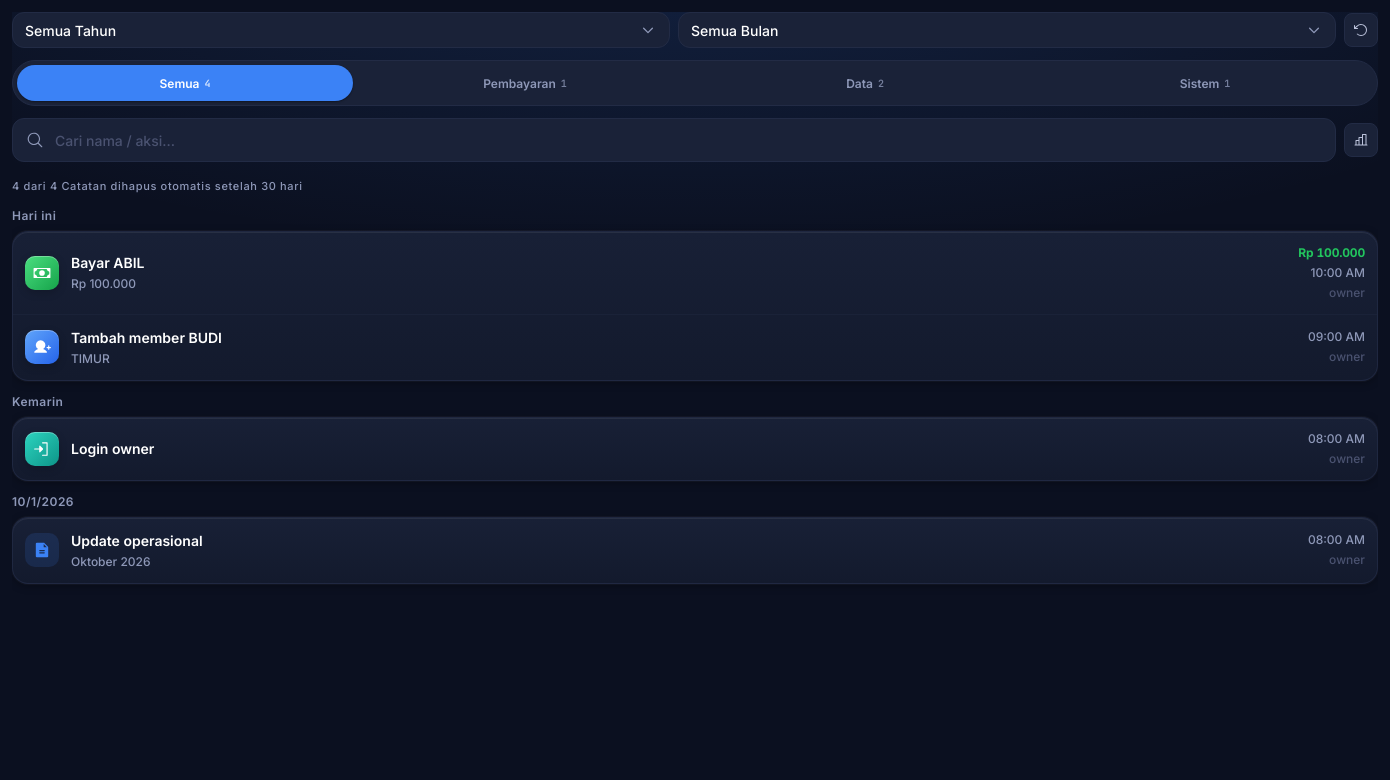
it: Log — tampilan dan filter (zip + A27) › filter bulan: Oktober saja vs bulan tanpa data
This screenshot has width=1390, height=780.
Select "Sep" in the dropdown named "Filter bulan aktivitas". click: (1007, 30)
box: [678,12,1336,48]
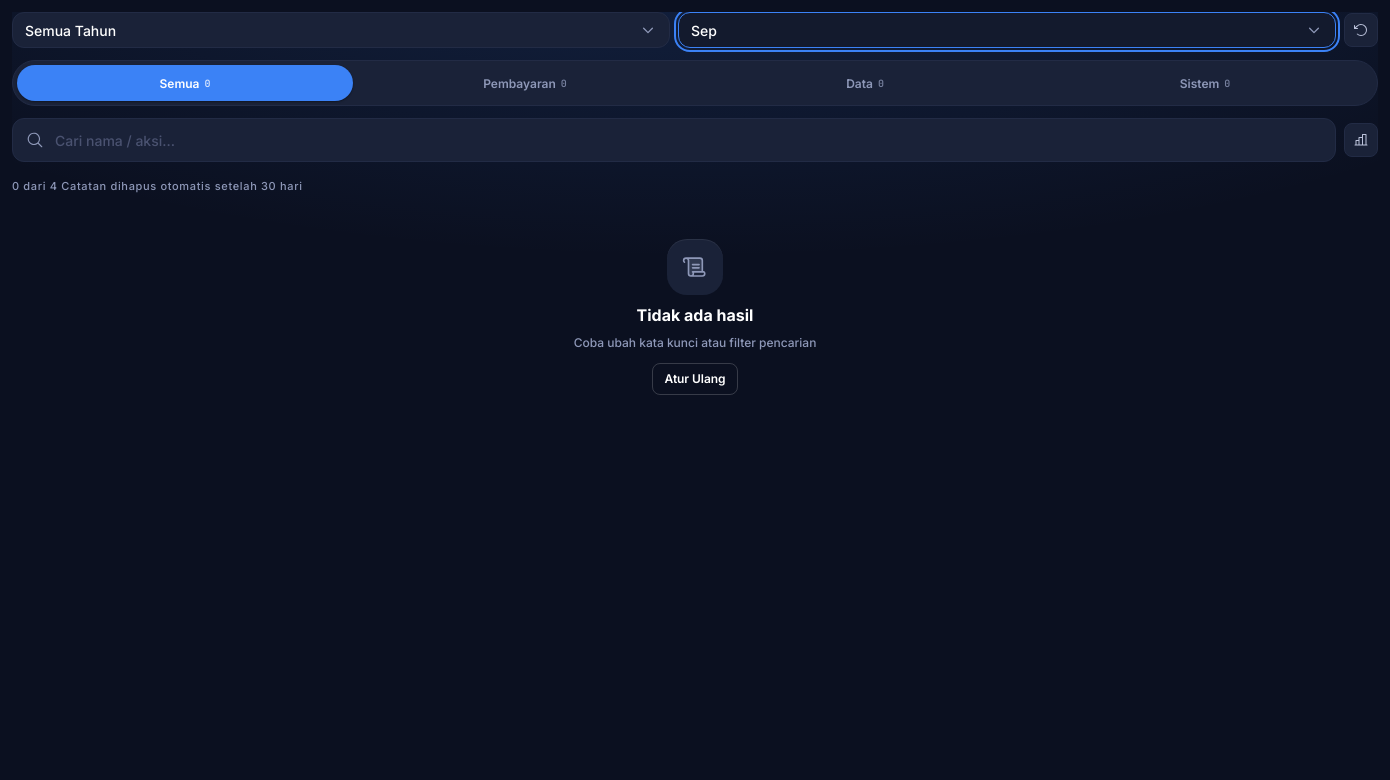
Expected: the text "Tidak ada hasil" is shown, [637,302,753,326]
Select "Okt" in the dropdown named "Filter bulan aktivitas". click: (1007, 30)
box: [678,12,1336,48]
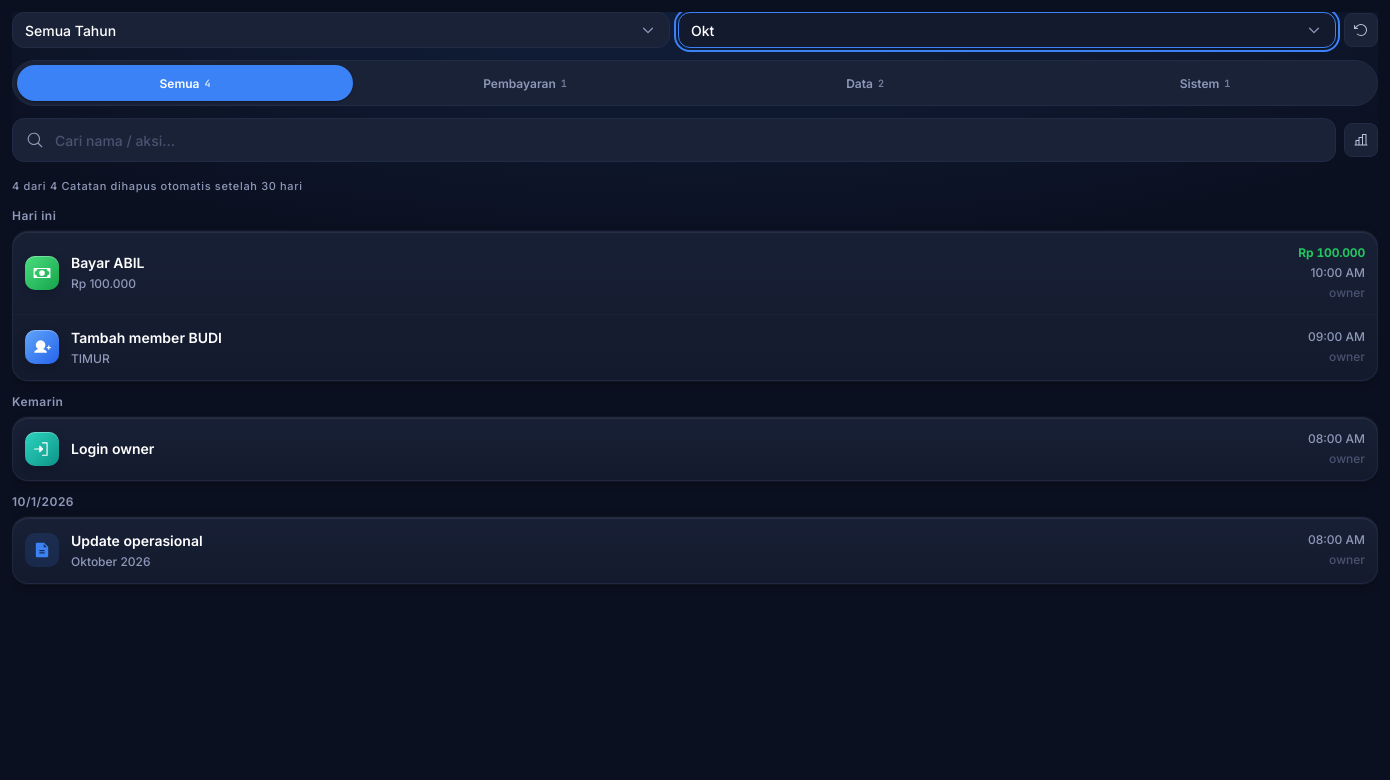
Expected: the text "Login owner" is shown, [71,440,154,457]
